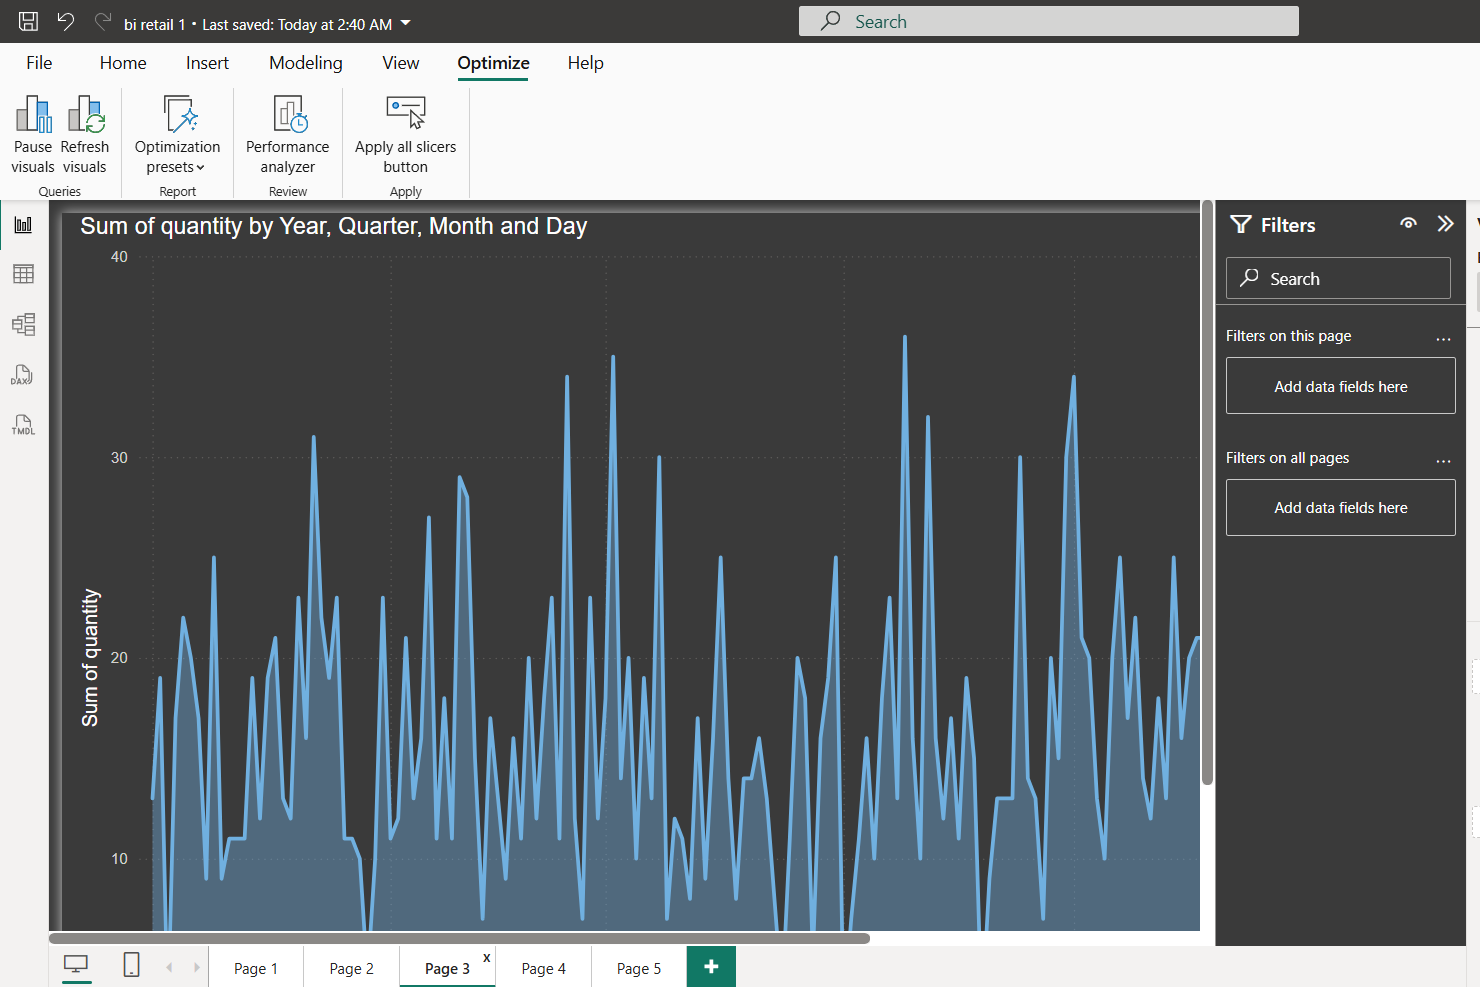

The dashboard page shown, as its layout file describes it:
{"tool":"powerbi","page":{"name":"Page 3","canvas":[1280,720],"ordinal":2},"visuals":[{"type":"stackedAreaChart","fields":{"Category":["run-1752526286075-part-r-00000.sale_date.Variation.Date Hierarchy.Year","run-1752526286075-part-r-00000.sale_date.Variation.Date Hierarchy.Quarter","run-1752526286075-part-r-00000.sale_date.Variation.Date Hierarchy.Month","run-1752526286075-part-r-00000.sale_date.Variation.Date Hierarchy.Day"],"Y":["Sum(run-1752526286075-part-r-00000.quantity)"]},"box":[9.6,0,1270.7,720.4],"z":0}]}

Visuals, with their boxes on the page's 1280x720 design canvas (x1, y1, x2, y2). These are canvas units, not pixel positions in the 1480x987 screenshot, which may show the page scaled, cropped or inside an application window:
stackedAreaChart - run-1752526286075-part-r-00000.sale_date.Variation.Date Hierarchy.Year x run-1752526286075-part-r-00000.sale_date.Variation.Date Hierarchy.Quarter: select_region(10, 0, 1280, 720)
